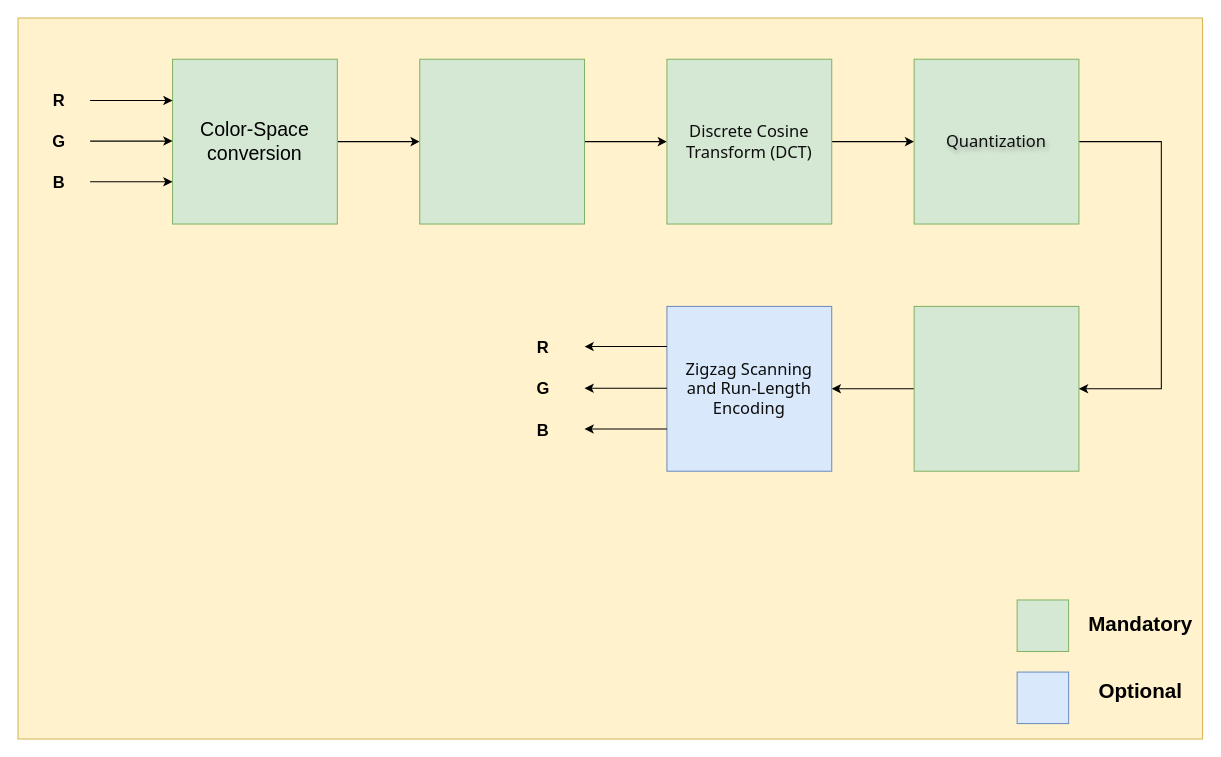
Image size: 1221x757. Some labels were removed from this diagram. The shapes that lost their labels are listed below. From the top down, each one's centre as x and y in pixels, then its label:
At (x=502, y=141): "Downsampling".
At (x=996, y=388): "Entropy Encoding (Huffman Coding)".
